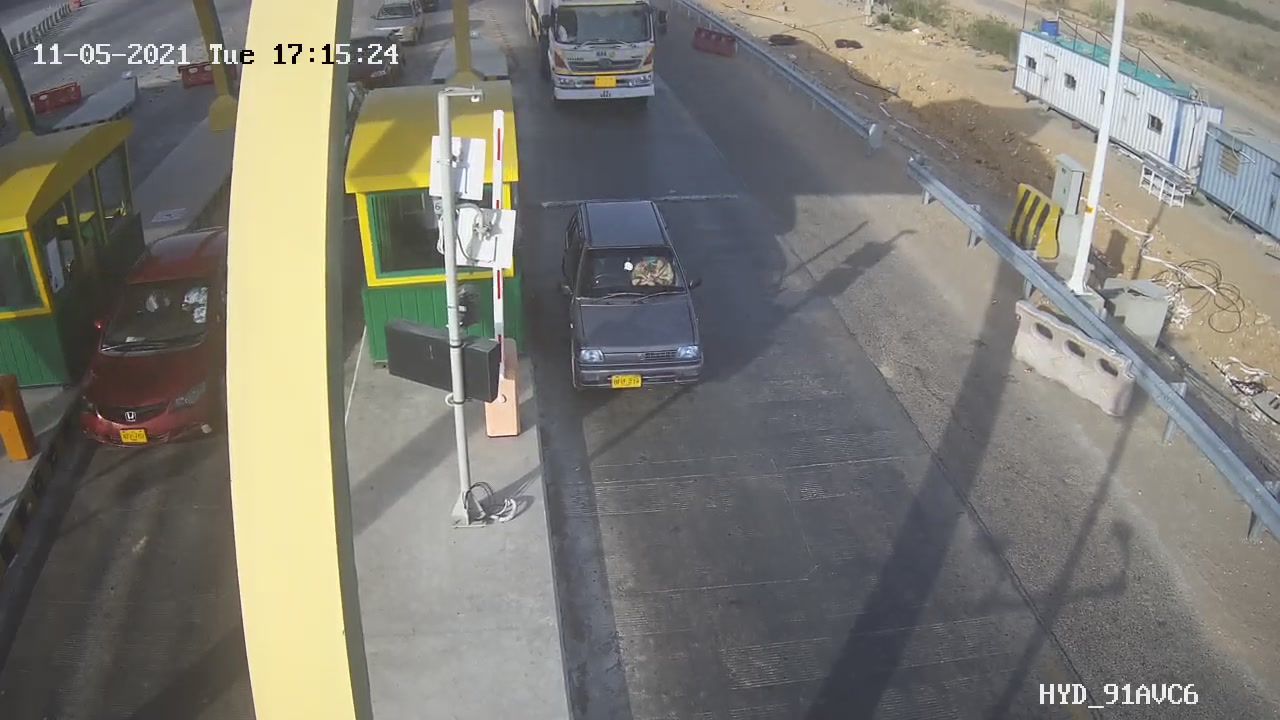F1: (537, 185, 730, 418)
